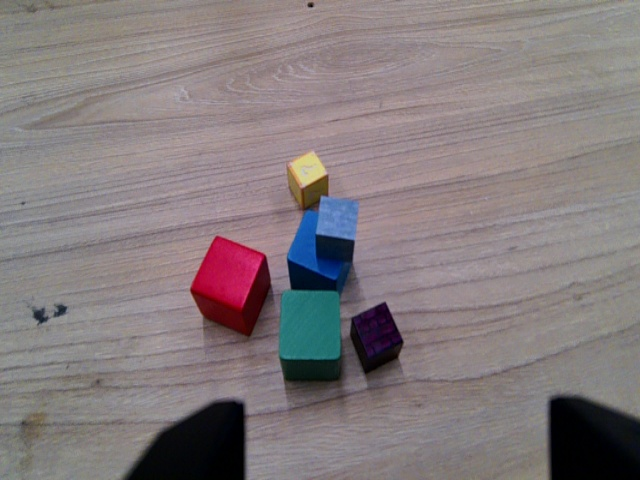brick: (346, 299, 410, 376)
lucky: (282, 143, 332, 213)
stone: (309, 193, 367, 268)
